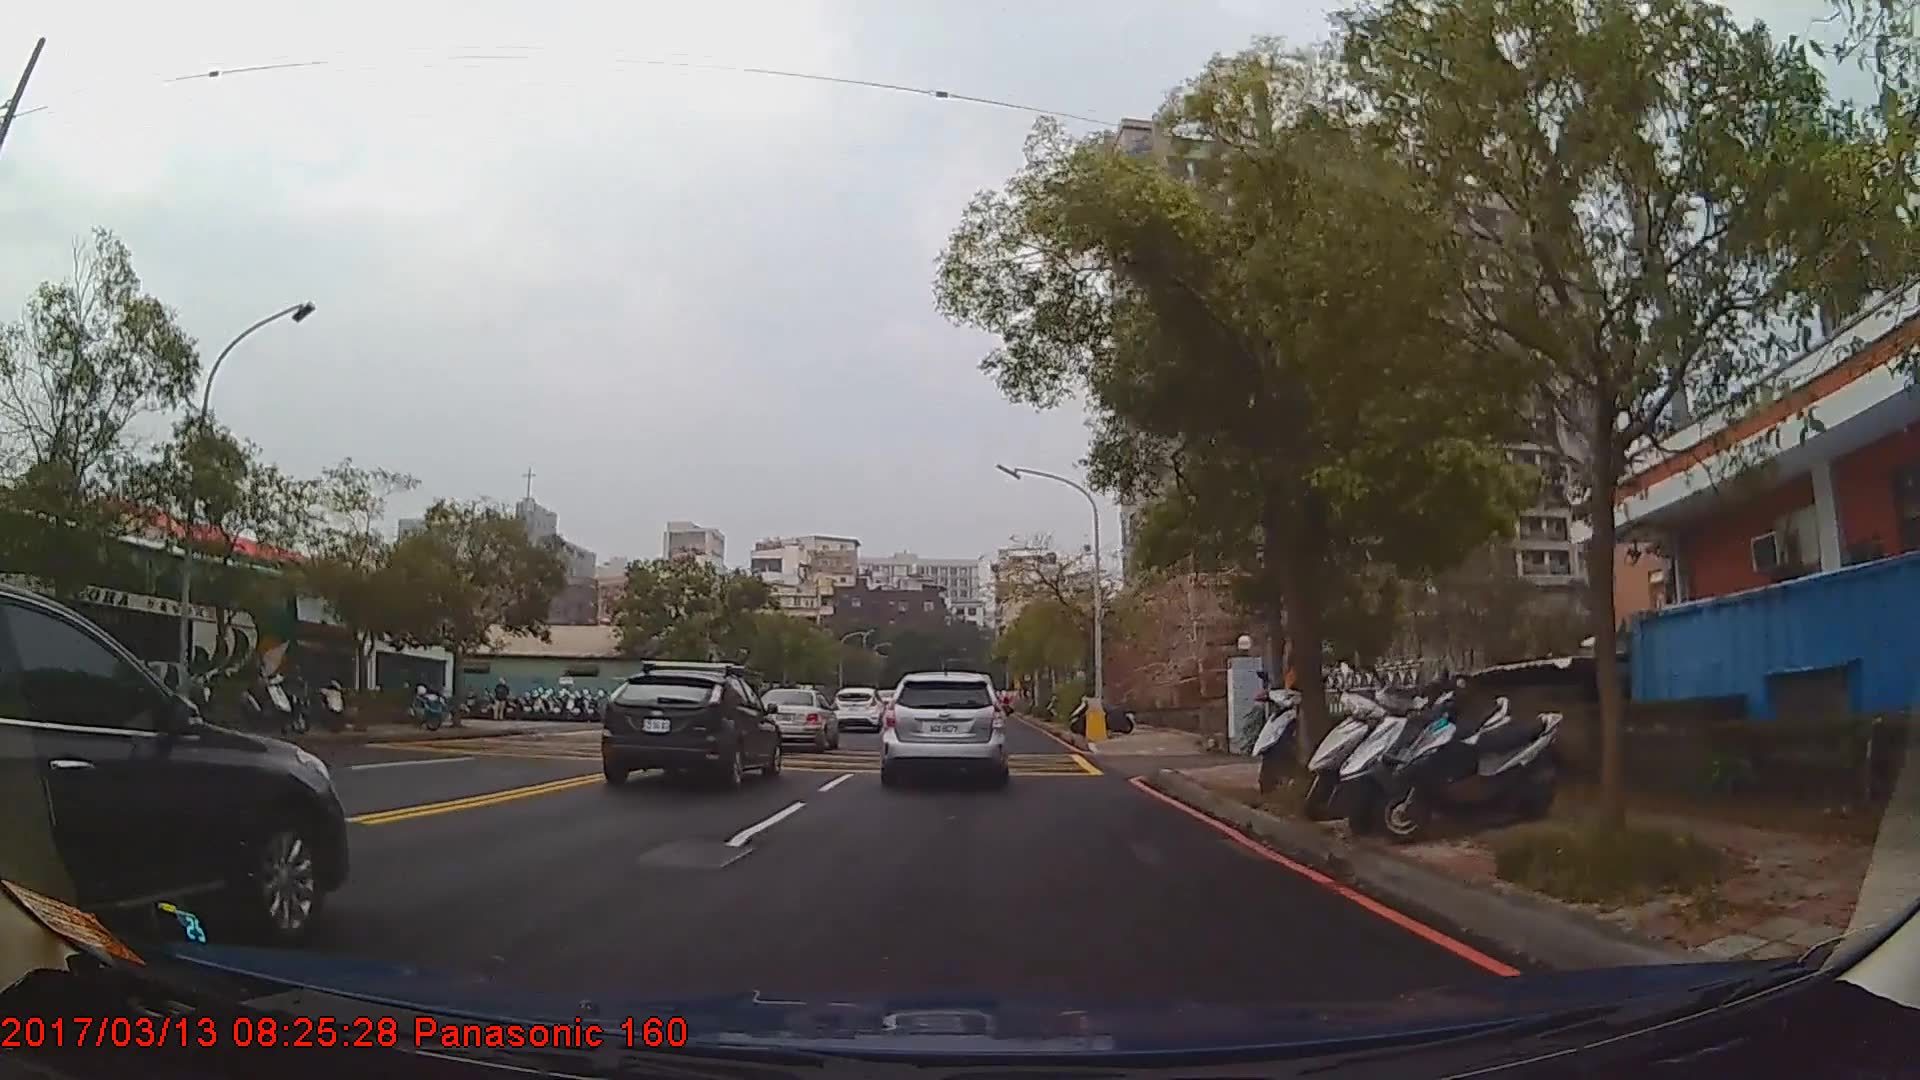vehicle: (0, 578, 349, 960), (0, 498, 291, 737), (597, 669, 781, 790), (881, 669, 1005, 789), (753, 686, 837, 752), (829, 684, 885, 731)
